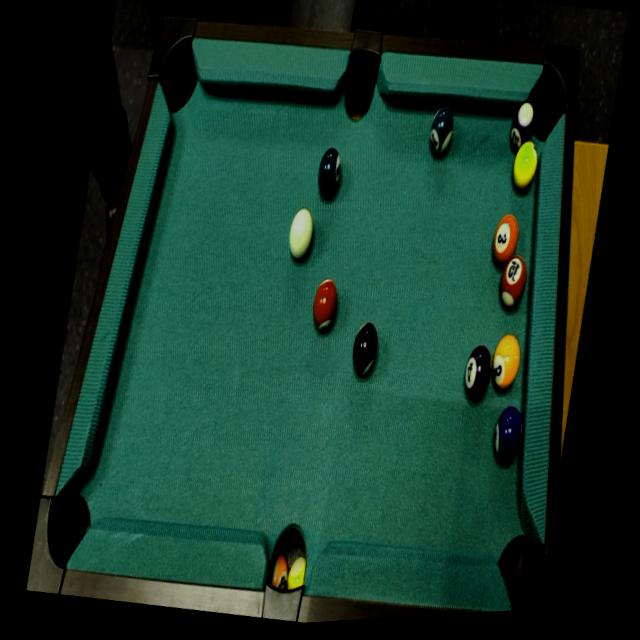cue ball: (280, 203, 318, 273)
other: (485, 399, 530, 470), (489, 249, 533, 315), (486, 329, 526, 399), (344, 315, 384, 382), (304, 272, 344, 339), (422, 96, 459, 168), (457, 340, 497, 406), (505, 133, 544, 200), (310, 143, 346, 210), (486, 211, 522, 275), (505, 96, 541, 154)
